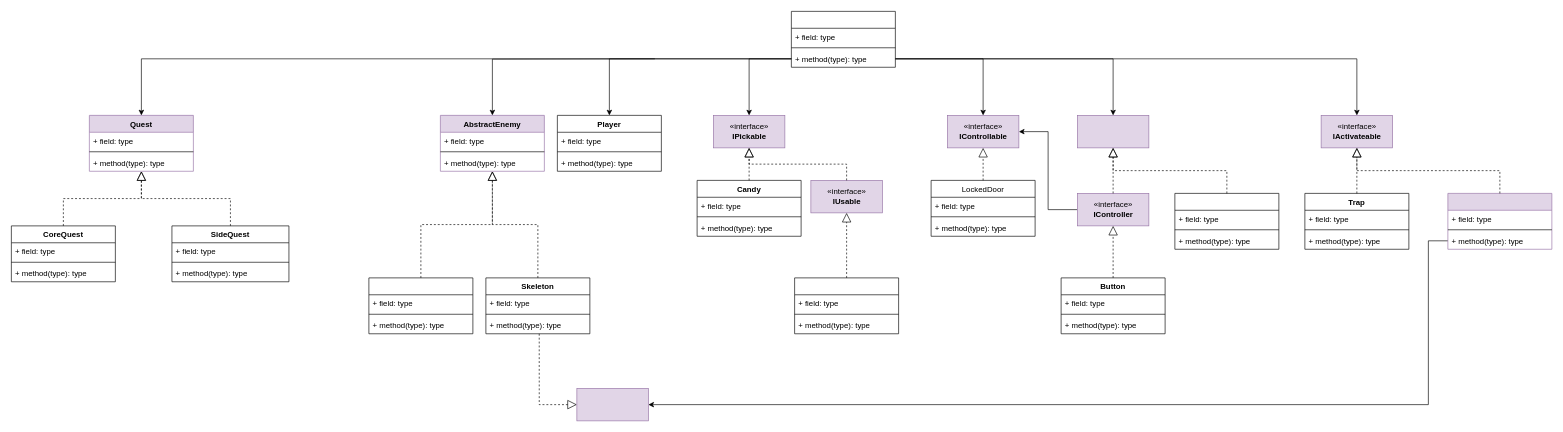
The diagram is 1563 pixels wide and 432 high, and some of its shapes have lost their labels. Here are the shapes that lost their labels. From the top down, the box of each, then its label:
(791, 11, 895, 67): LevelManager
(1077, 115, 1149, 148): «interface» IInteractable
(1174, 193, 1279, 249): Door
(1447, 193, 1552, 249): ProximitySpawner
(368, 277, 473, 334): Spider
(794, 277, 899, 334): Shovel
(576, 388, 648, 421): «interface» ISpawnable
